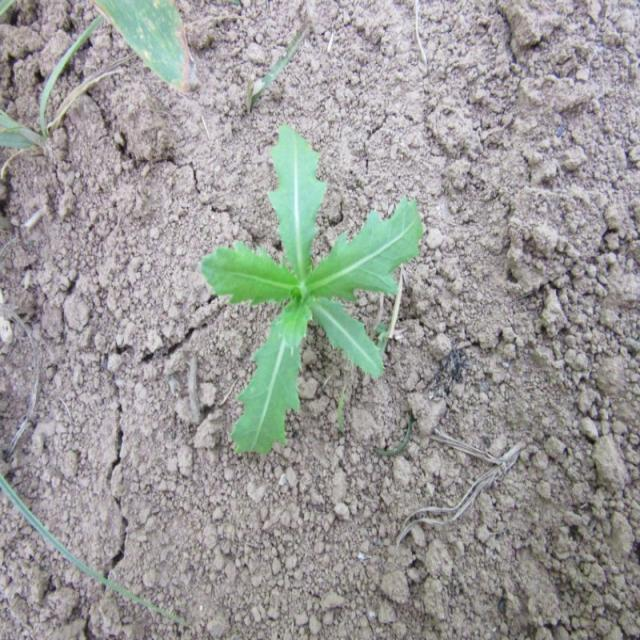field_thistle: (206, 131, 417, 462)
